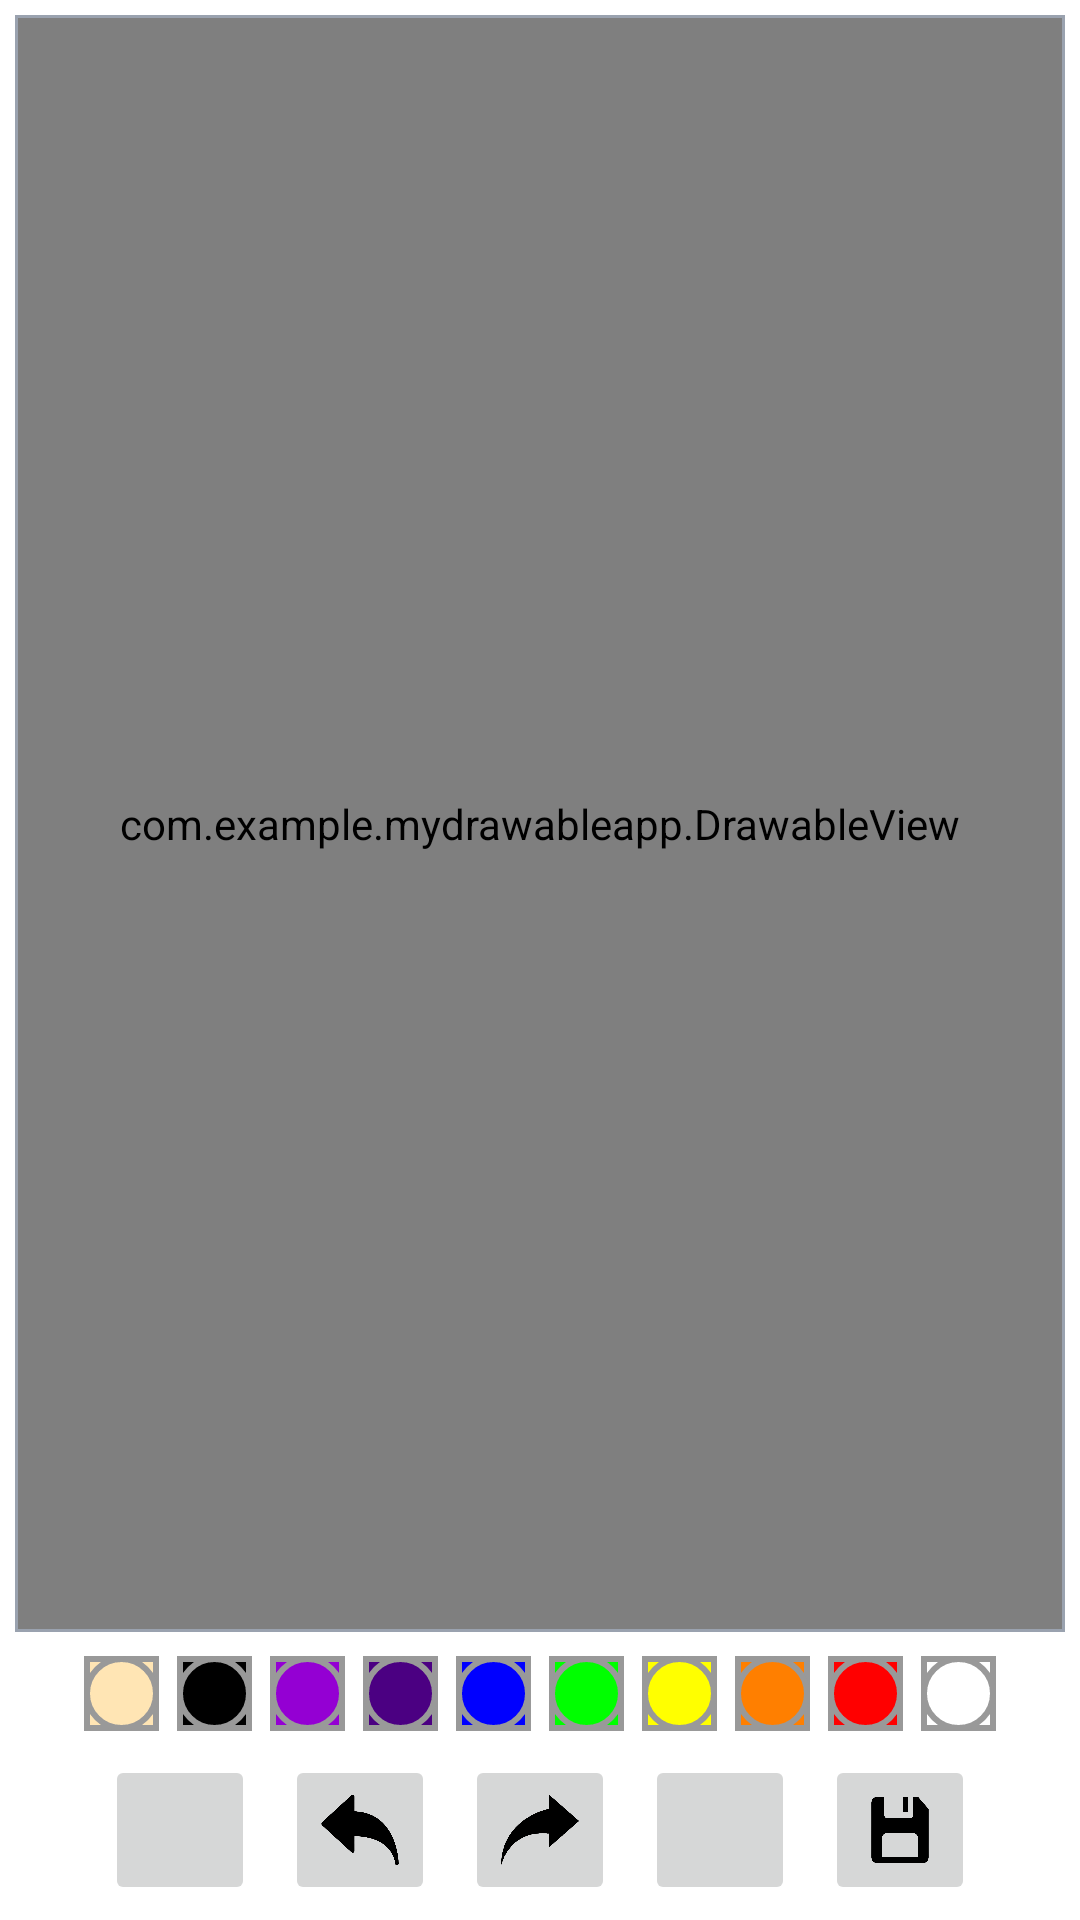

Named icons in this screenshot (1080w x 1920h) and their bounding boxes, (x1, y1, x2, y2):
redo: (477, 1773, 603, 1887)
save: (837, 1773, 963, 1887)
undo: (297, 1773, 423, 1887)
